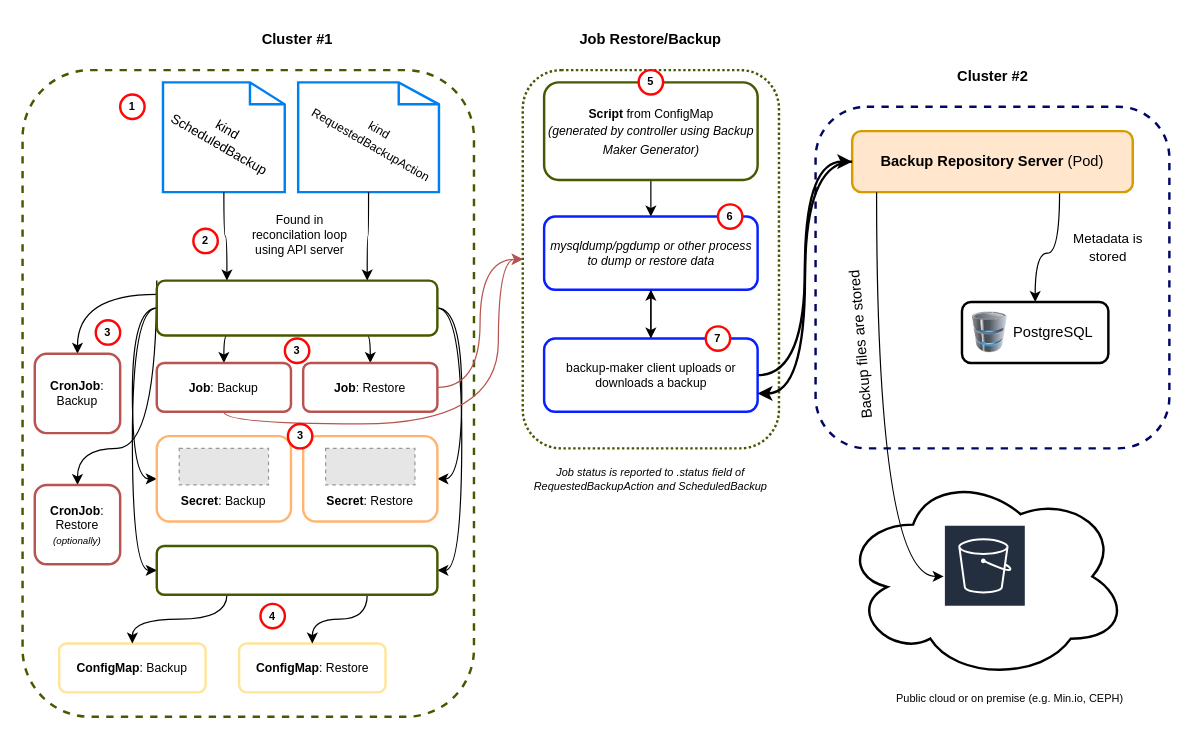
Image size: 1191x738. Some labels were removed from this diagram. Grey dashed boxes stand in for pictures. Here are the shapes that lost their labels. From the top down, the centre of each, then its label:
point 296,307: Backup Maker Controller (Pod)
point 296,569: Backup Maker Generator inside controller Pod generates Backup & Restore scripts
point 984,576: Amazon S3
